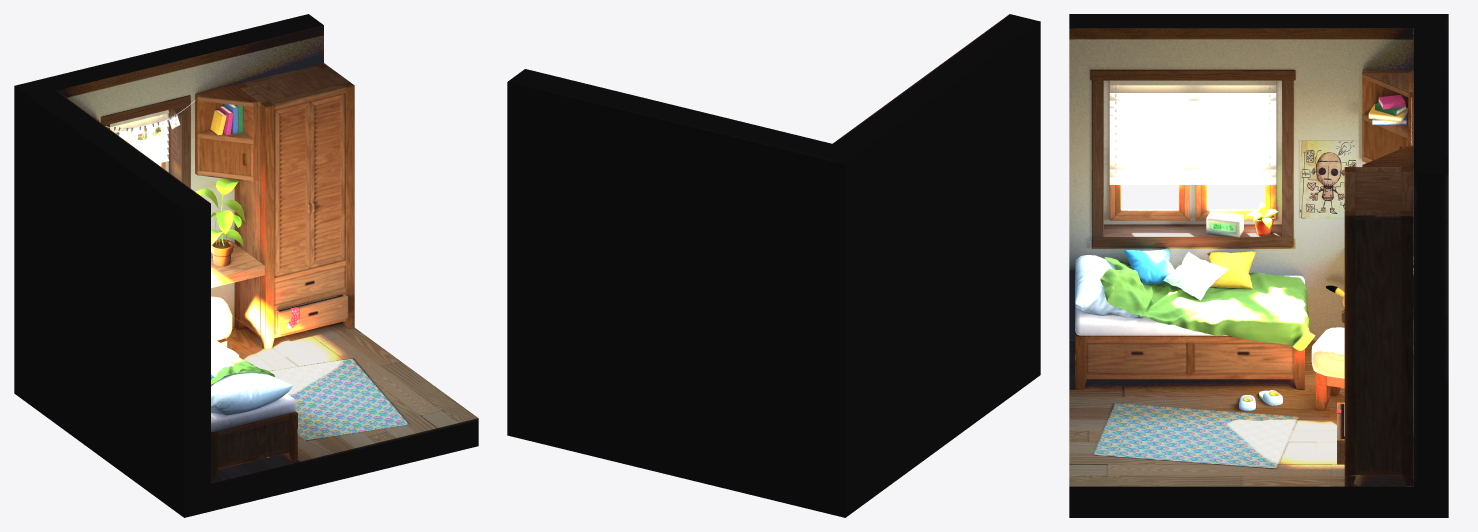
Rendered from room.glb.
3 renders of one model, left to right at view 1: azimuth 30°, elevation 25°; view 2: azimuth 150°, elevation 25°; view 3: azimuth 270°, elevation 25°, orthographic. The views are drawn at different scales.
Parts seen in each view (by area): view 1: room_lowpoly, wardrobe_lowpoly, cupboards_lowpoly, bed_lowpoly, pillow_big_lowpoly, plant_big_lowpoly, shutter_lowpoly, desk_lowpoly, mattress_lowpoly, blanket_lowpoly, book_lowpoly, pouf_seat_lowpoly (+1 smaller); view 2: room_lowpoly; view 3: room_lowpoly, wardrobe_lowpoly, shutter_lowpoly, blanket_lowpoly, bed_lowpoly, cupboards_lowpoly, window_lowpoly, mattress_lowpoly, pillow_big_lowpoly, pillow_02_lowpoly, pouf_seat_lowpoly, pillow_03_lowpoly (+6 smaller).
Boxes of the visible parts, box(x1,y1,x2,y2) form: room_lowpoly: box(14, 14, 478, 517); wardrobe_lowpoly: box(234, 63, 354, 349); cupboards_lowpoly: box(95, 84, 257, 181); bed_lowpoly: box(211, 411, 297, 480); pillow_big_lowpoly: box(211, 372, 292, 415); plant_big_lowpoly: box(195, 178, 245, 266); shutter_lowpoly: box(110, 110, 168, 163); desk_lowpoly: box(211, 243, 265, 288); mattress_lowpoly: box(211, 384, 296, 431); blanket_lowpoly: box(211, 336, 274, 384); book_lowpoly: box(210, 103, 243, 135); pouf_seat_lowpoly: box(211, 296, 232, 340); room_lowpoly: box(507, 14, 1040, 517); room_lowpoly: box(1069, 14, 1448, 517); wardrobe_lowpoly: box(1337, 167, 1413, 486); shutter_lowpoly: box(1109, 80, 1276, 184); blanket_lowpoly: box(1100, 257, 1315, 350); bed_lowpoly: box(1075, 331, 1304, 389); cupboards_lowpoly: box(1362, 70, 1413, 255); window_lowpoly: box(1109, 185, 1276, 220); mattress_lowpoly: box(1075, 275, 1304, 335); pillow_big_lowpoly: box(1075, 255, 1139, 318); pillow_02_lowpoly: box(1163, 251, 1227, 300); pouf_seat_lowpoly: box(1311, 327, 1344, 378); pillow_03_lowpoly: box(1209, 251, 1255, 288).
Bounding box in the file's own units: 660 × 660 × 686.
Materials: 3 (3 with a texture image).
